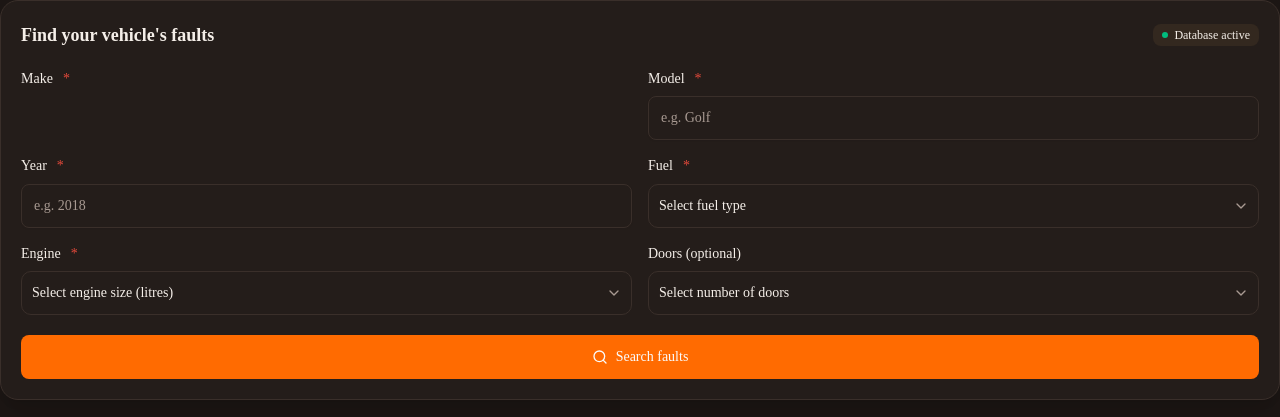
Test: VehicleSearchForm › restores the engine field when fuel changes away from electric
Select "2.0" in the dropdown labelled "Engine". click: (326, 293)
box: [21,271,632,315]
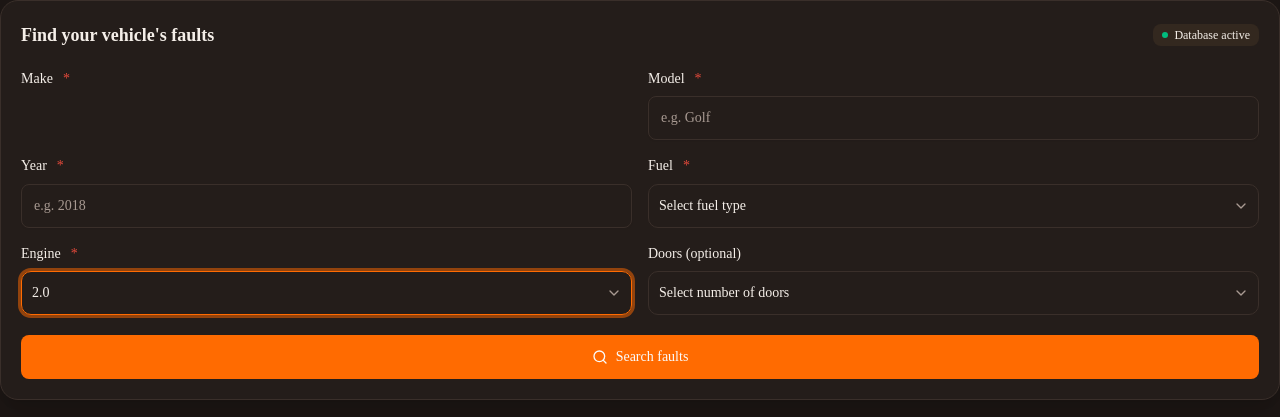
Select "Electric" in the dropdown labelled "Fuel". click: (954, 206)
box: [648,184,1259,228]
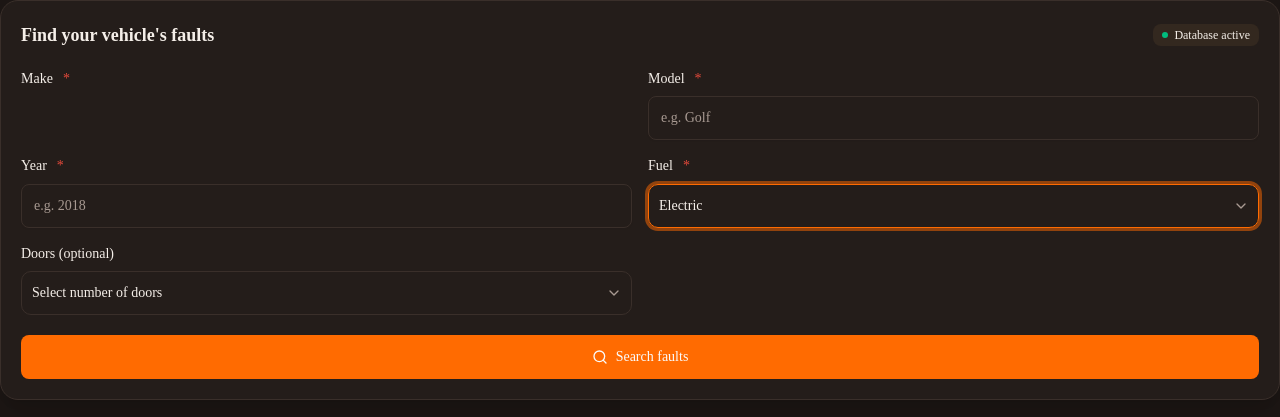
Select "Diesel" in the dropdown labelled "Fuel". click: (954, 206)
box: [648,184,1259,228]
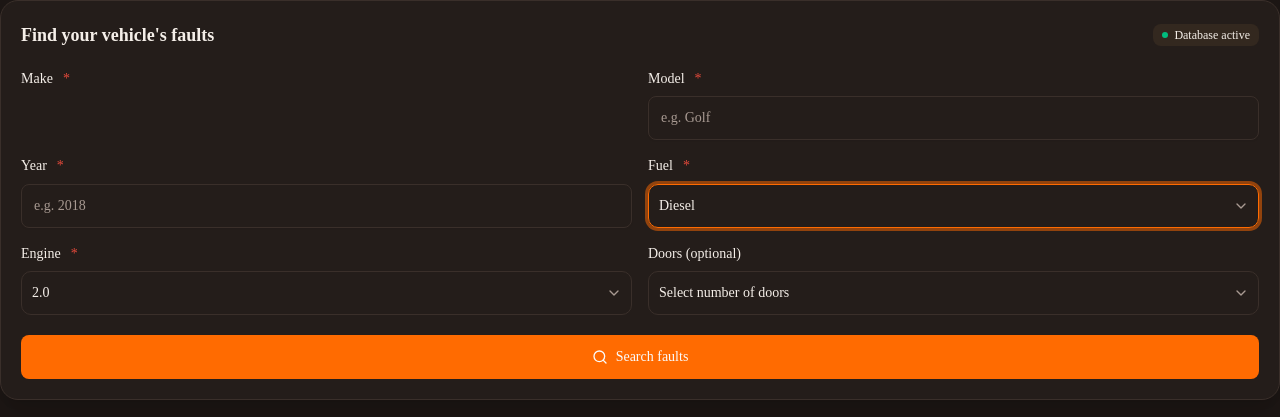
Now the dropdown labelled "Engine" shows "2.0", box [21,271,632,315]
